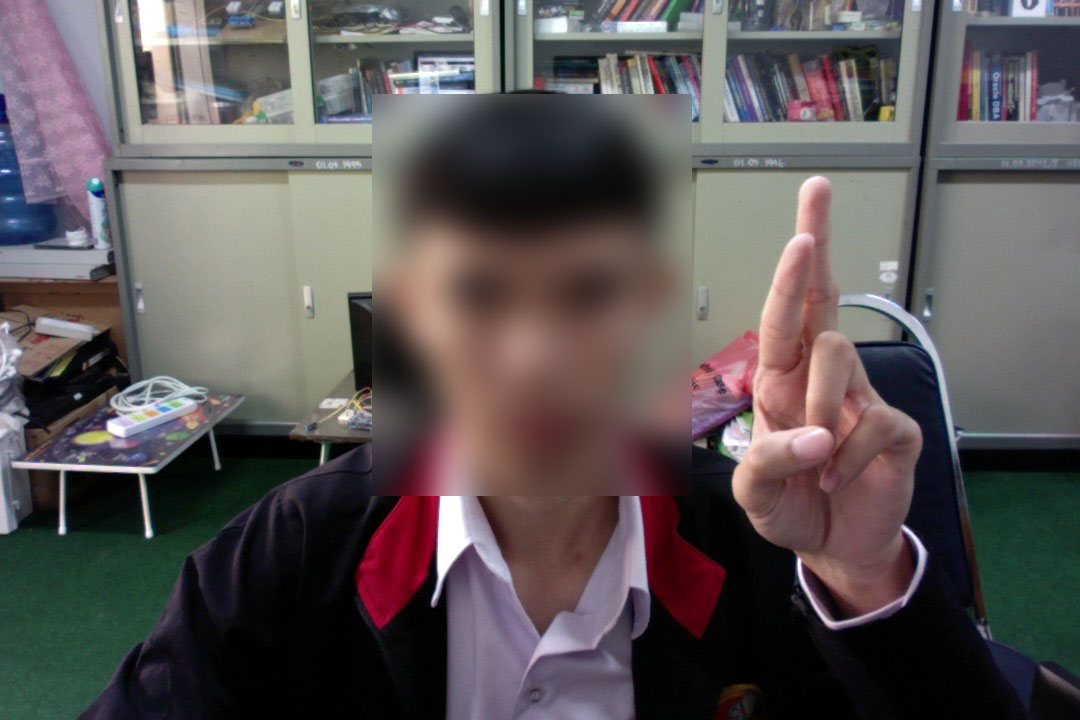rao: (727, 176, 932, 561)
